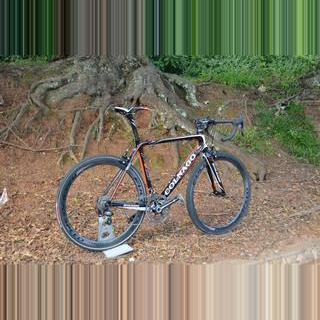Bike: (57, 104, 253, 253)
